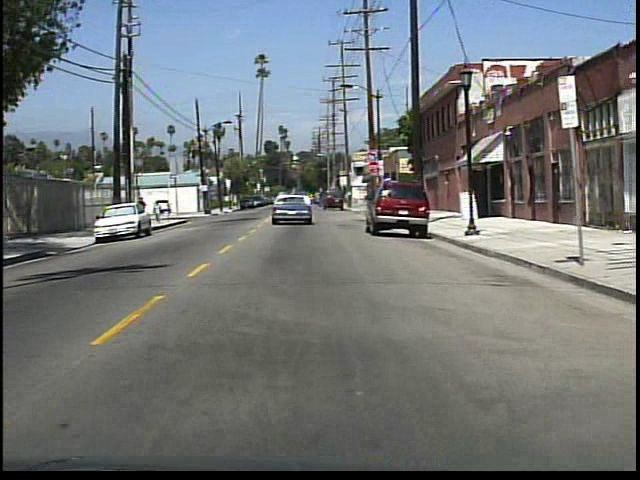person: (135, 195, 151, 228), (151, 198, 165, 226)
